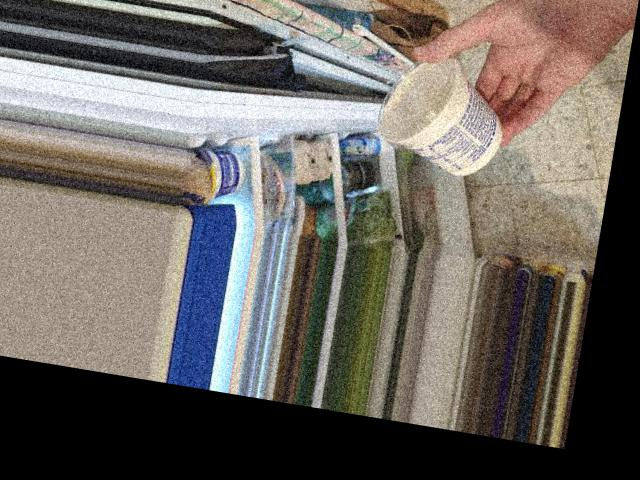cotage: (368, 53, 501, 175)
